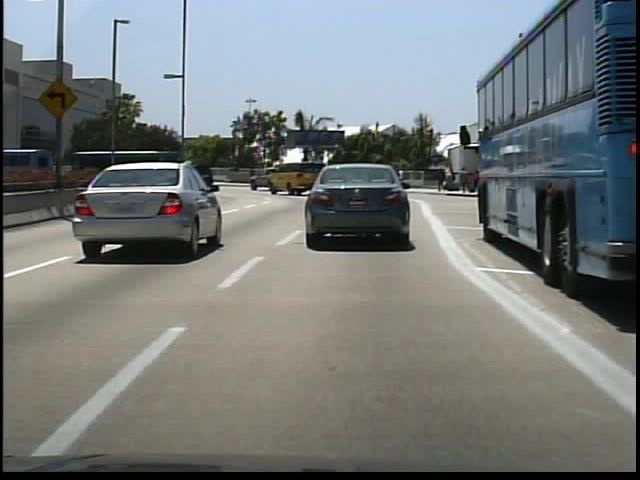person: (455, 165, 470, 196), (433, 167, 446, 194), (249, 163, 260, 178)
